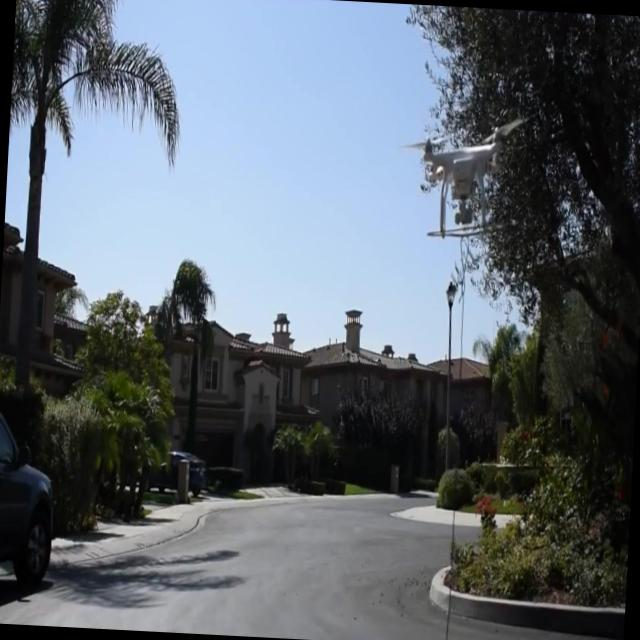drone: (415, 113, 526, 249)
